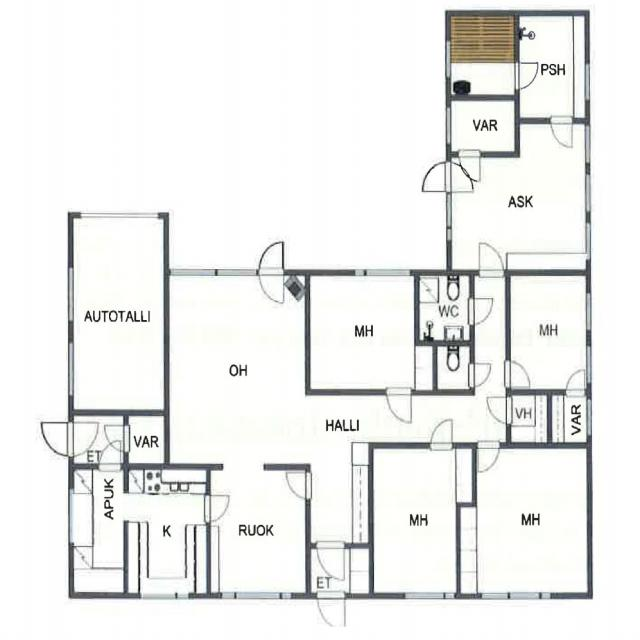door: (68, 422, 100, 456), (42, 422, 74, 456), (318, 592, 345, 632), (317, 542, 344, 581), (446, 162, 476, 192), (422, 162, 452, 192), (479, 240, 504, 276), (386, 389, 411, 425), (259, 240, 283, 276), (90, 379, 114, 415), (259, 270, 283, 304), (101, 424, 128, 452), (483, 397, 510, 424), (458, 151, 480, 184), (505, 361, 531, 387), (470, 298, 496, 324), (551, 118, 572, 150), (431, 416, 452, 448), (478, 443, 499, 475), (514, 63, 540, 88), (285, 472, 311, 497), (100, 437, 120, 469), (206, 496, 230, 520), (566, 366, 584, 395), (470, 364, 493, 386)
